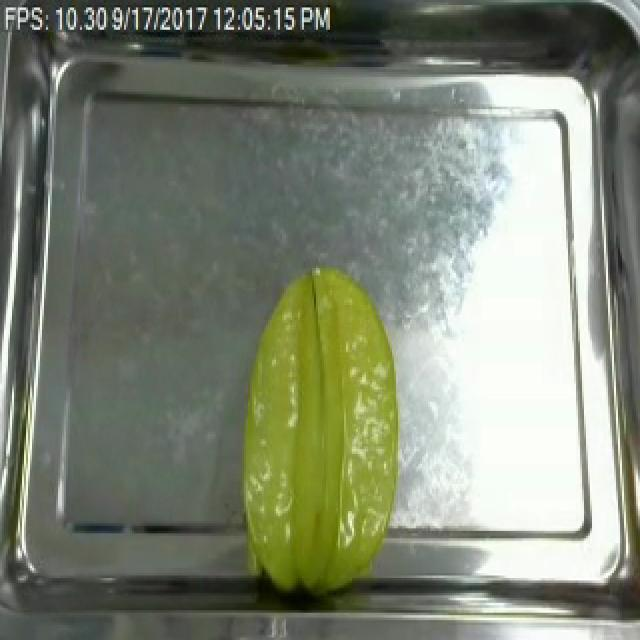fruit: (230, 260, 408, 608)
